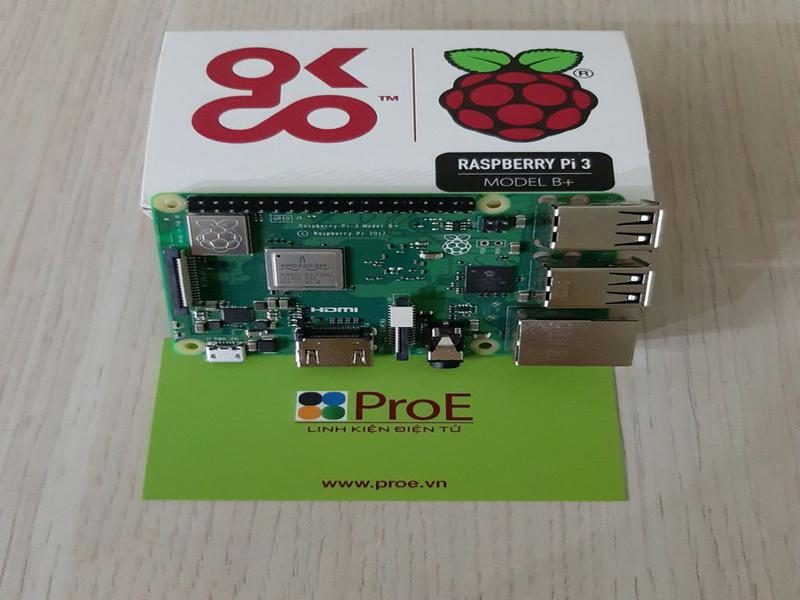Raspberry_Pi_3: (141, 188, 669, 374)
